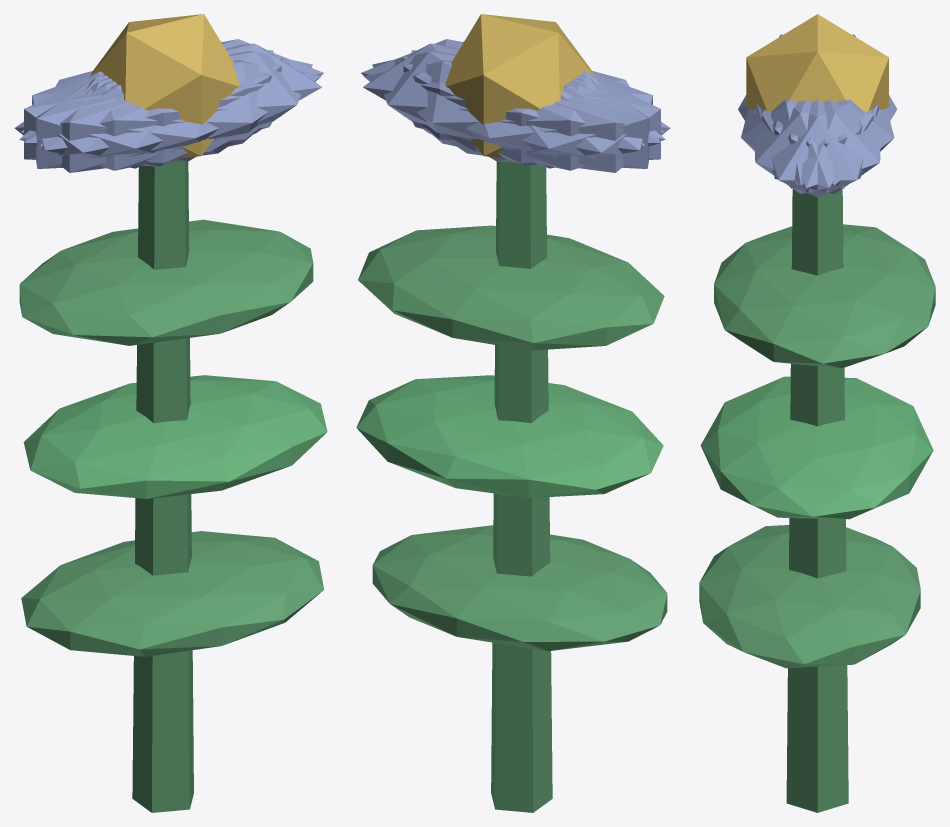
Rendered from anthocleista-grandiflora.glb.
3 views of the same model, side by side, from view 1: azimuth 30°, elevation 25°; view 2: azimuth 150°, elevation 25°; view 3: azimuth 270°, elevation 25° (orthographic).
Visible parts, largest first — view 1: leaf0, leaf1, leaf2, stem, center, petal1, petal6, petal2, petal5, petal7, petal0, petal4 (+2 smaller); view 2: leaf2, leaf1, leaf0, stem, center, petal8, petal3, petal7, petal4, petal2, petal0, petal5 (+2 smaller); view 3: leaf1, leaf2, leaf0, stem, center, petal0, petal4, petal5, petal1, petal8.
Part boxes in pixels (left/top/right/bottom): leaf0: left=21, top=531, right=323, bottom=656; leaf1: left=23, top=375, right=327, bottom=498; leaf2: left=19, top=219, right=313, bottom=345; stem: left=132, top=161, right=193, bottom=812; center: left=90, top=14, right=239, bottom=158; petal1: left=19, top=60, right=321, bottom=170; petal6: left=14, top=73, right=233, bottom=172; petal2: left=35, top=50, right=273, bottom=168; petal5: left=40, top=51, right=312, bottom=163; petal7: left=24, top=56, right=282, bottom=166; petal0: left=90, top=43, right=321, bottom=152; petal4: left=20, top=39, right=323, bottom=143; leaf2: left=358, top=225, right=664, bottom=350; leaf1: left=356, top=375, right=663, bottom=497; leaf0: left=372, top=525, right=667, bottom=651; stem: left=491, top=161, right=552, bottom=812; center: left=445, top=14, right=594, bottom=158; petal8: left=363, top=60, right=665, bottom=170; petal3: left=451, top=73, right=670, bottom=172; petal7: left=411, top=50, right=649, bottom=168; petal4: left=372, top=51, right=644, bottom=163; petal2: left=402, top=56, right=660, bottom=166; petal0: left=363, top=43, right=594, bottom=152; petal5: left=361, top=39, right=664, bottom=143; leaf1: left=700, top=376, right=933, bottom=519; leaf2: left=714, top=224, right=935, bottom=368; leaf0: left=699, top=525, right=920, bottom=668; stem: left=786, top=189, right=848, bottom=812; center: left=746, top=14, right=888, bottom=111; petal0: left=756, top=100, right=878, bottom=197; petal4: left=762, top=100, right=880, bottom=193; petal5: left=754, top=100, right=873, bottom=193; petal1: left=741, top=99, right=862, bottom=185; petal8: left=772, top=99, right=894, bottom=185.
Size of the model in its own units: 0.1452 by 0.3626 by 0.1014.
